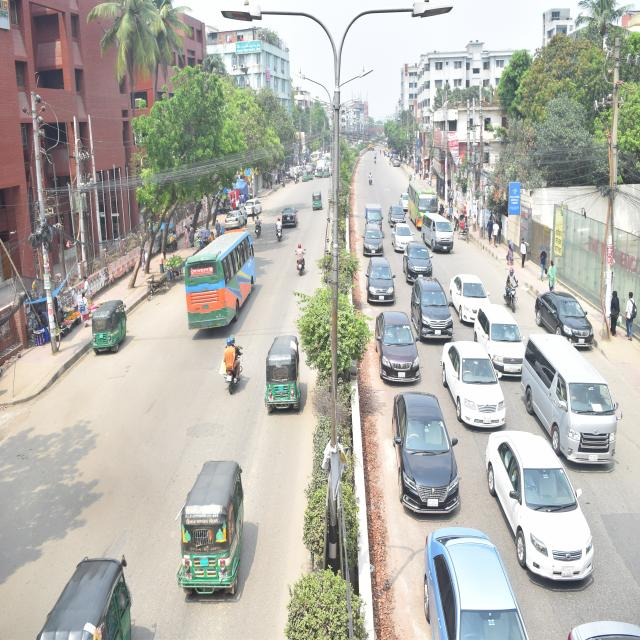bus: (170, 227, 281, 332), (404, 178, 450, 222)
car: (477, 415, 623, 595), (409, 523, 558, 640), (382, 384, 471, 527), (526, 273, 613, 356), (437, 342, 518, 422), (465, 298, 532, 374), (406, 264, 459, 346), (374, 308, 424, 382), (565, 593, 640, 640), (448, 254, 500, 321), (364, 248, 398, 312), (400, 232, 440, 285), (356, 220, 387, 261), (211, 200, 247, 232), (273, 198, 301, 237), (391, 218, 415, 250), (385, 195, 405, 222), (246, 192, 264, 220), (320, 154, 336, 175)
microbus: (515, 322, 634, 469), (417, 210, 463, 259)
motorbike: (211, 331, 254, 402), (288, 235, 311, 286), (267, 200, 287, 248), (249, 210, 263, 242), (364, 162, 376, 186)
pickup-van: (364, 191, 394, 251)
